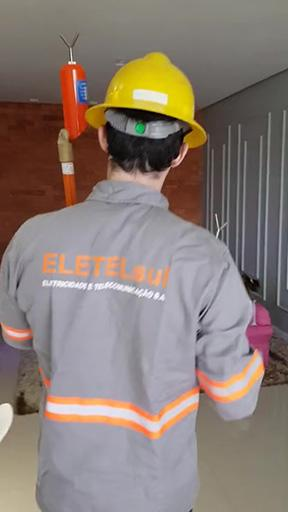Detector_Tensao_Contato: (57, 29, 90, 140)
